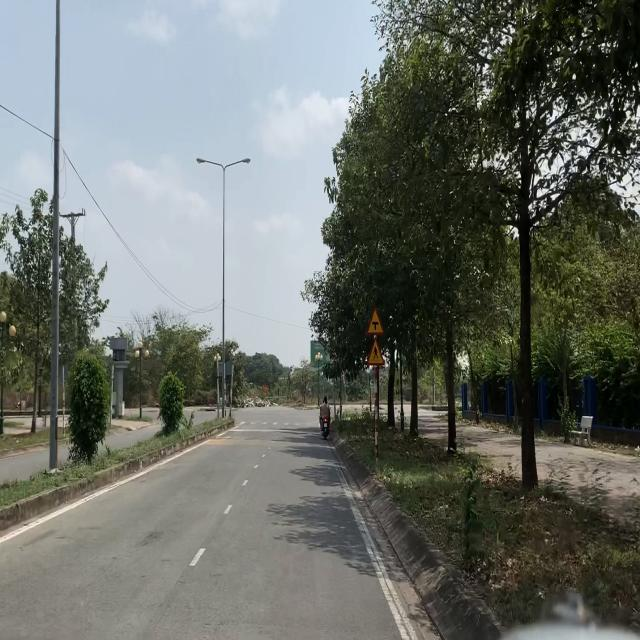Duong giao nhau: (366, 307, 386, 336)
Nguoi di bo cat ngang: (366, 337, 386, 366)
